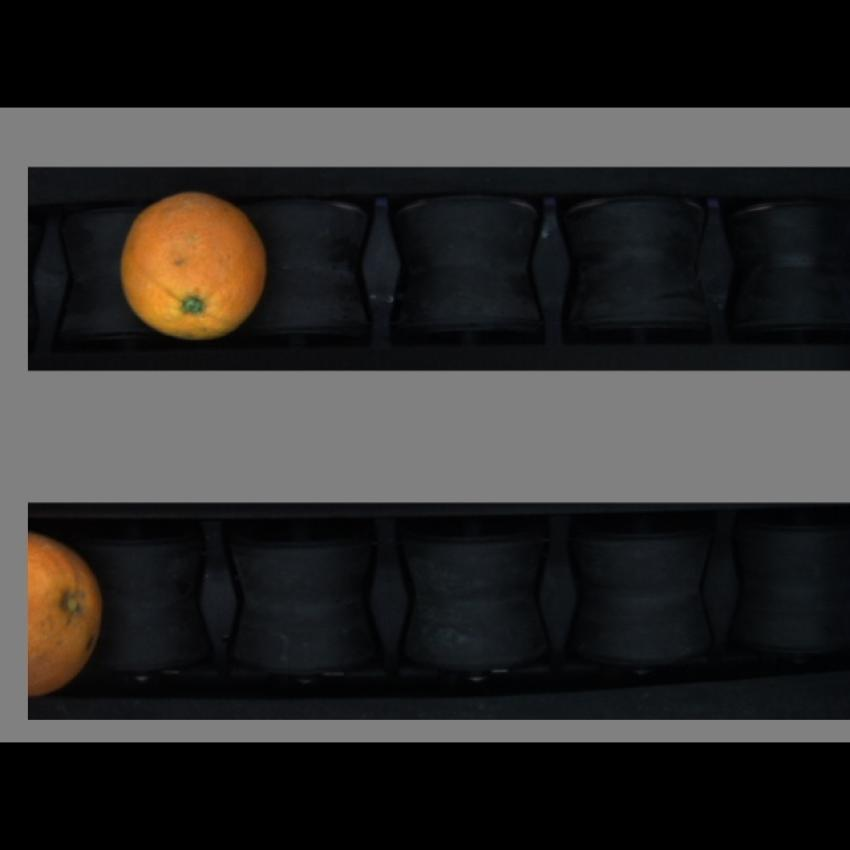Mal estado: (117, 191, 272, 340), (30, 534, 104, 702)
